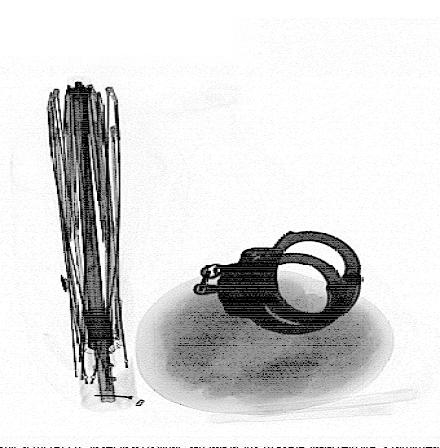HandCuffs: (193, 229, 363, 336)
